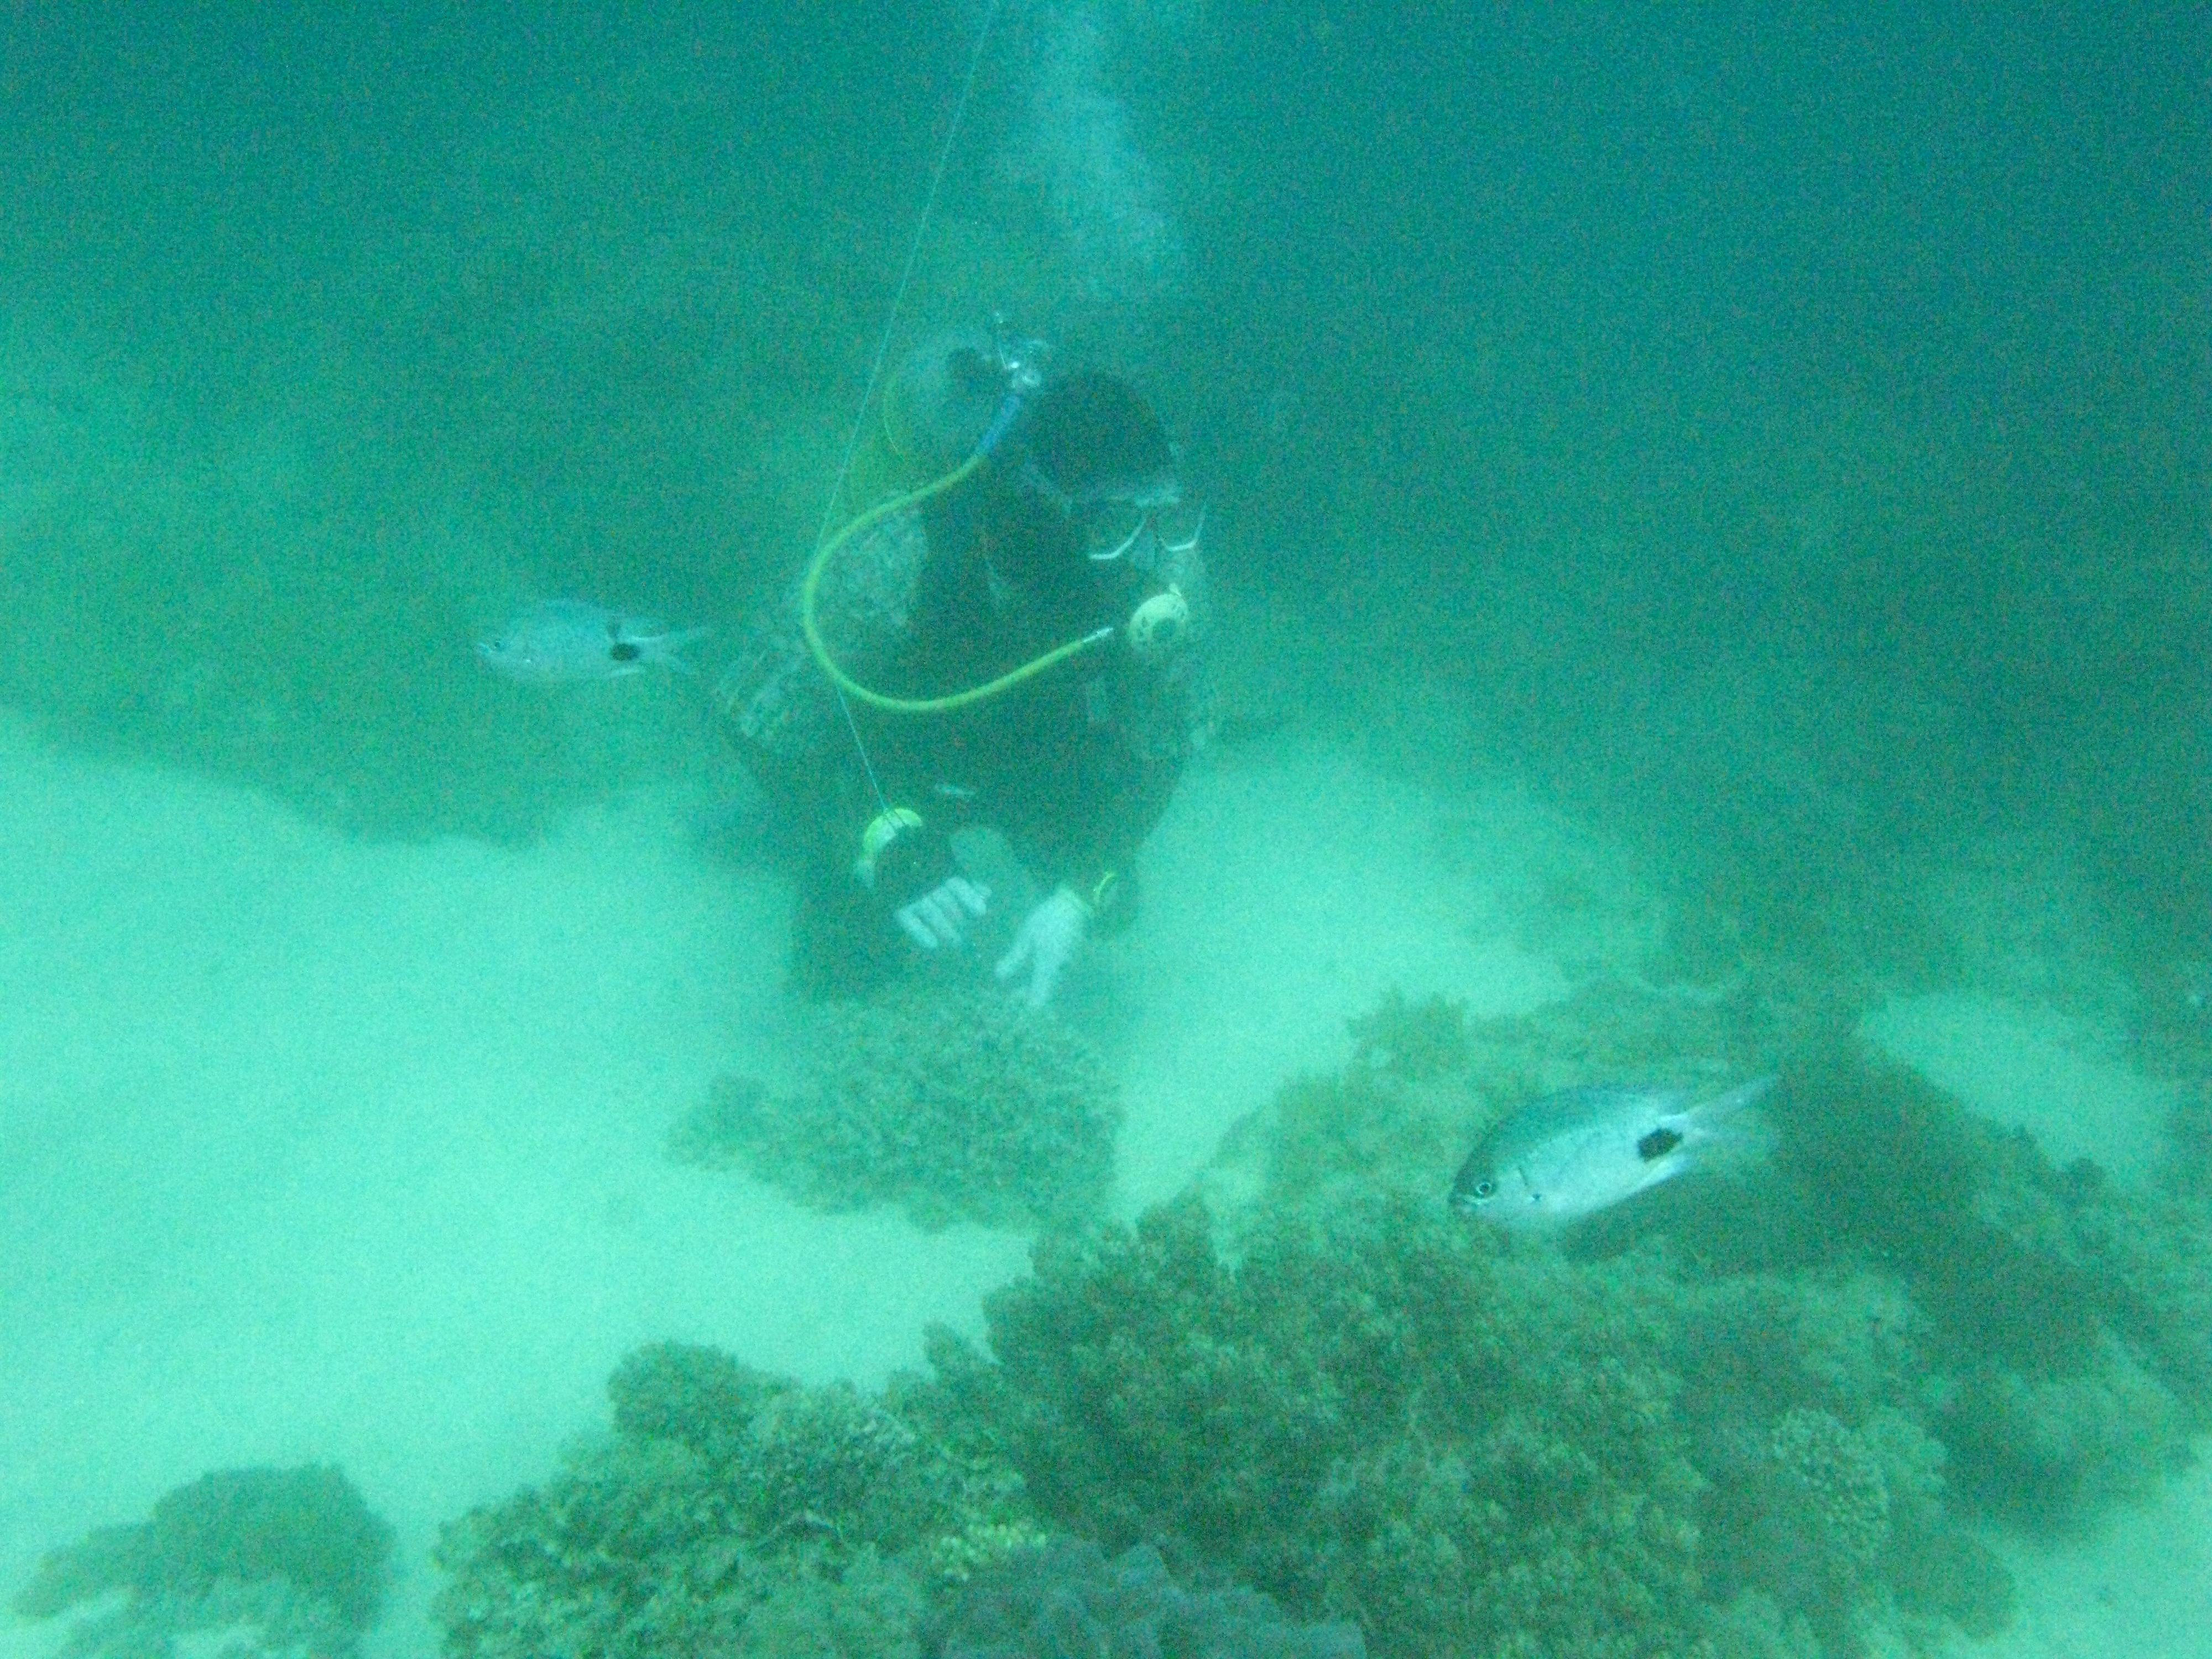Fish: (1421, 1042, 1834, 1256), (456, 582, 725, 713)
